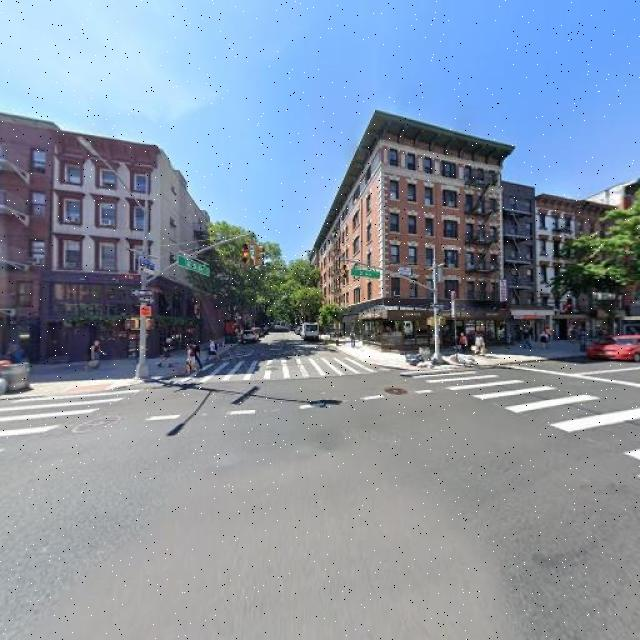Building: (312, 110, 503, 349), (52, 138, 225, 359)
